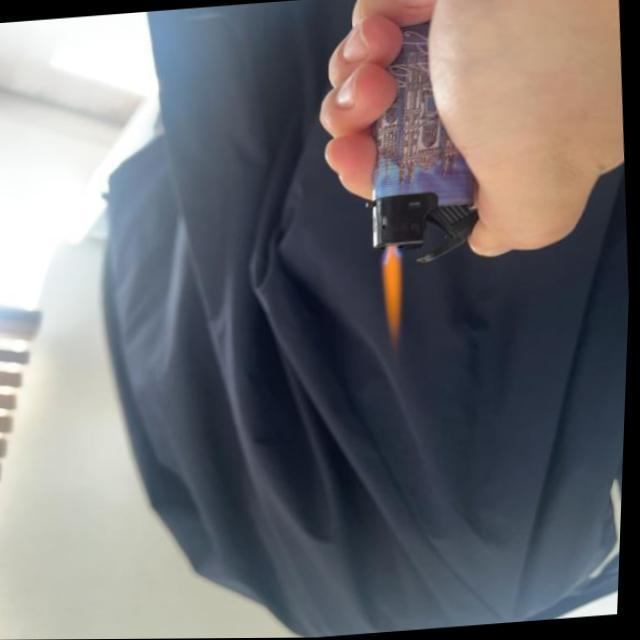fire: (376, 249, 412, 341)
